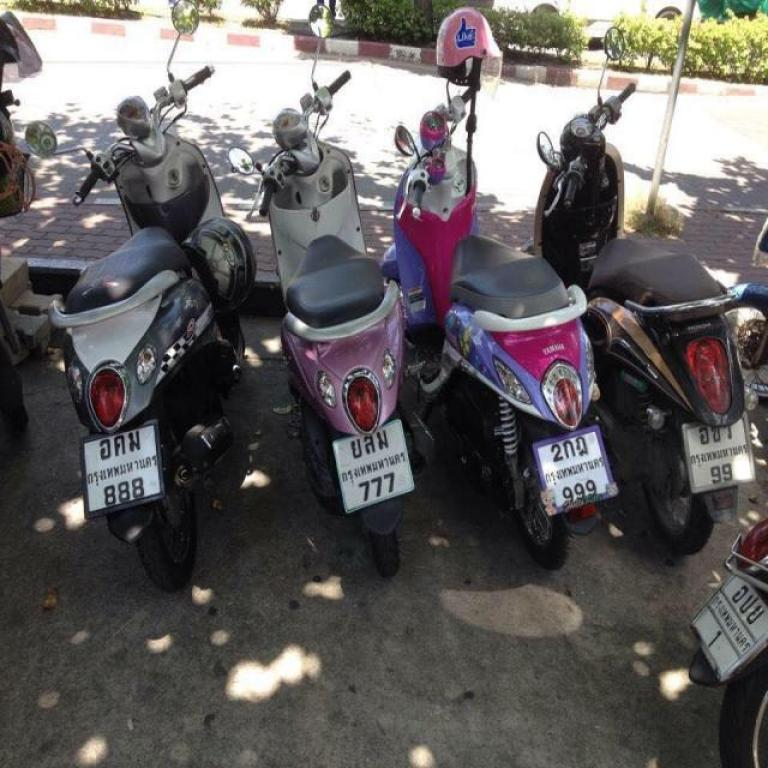license plate: (692, 575, 767, 680), (82, 420, 163, 515), (332, 420, 413, 512), (534, 427, 616, 511), (684, 415, 754, 491)
